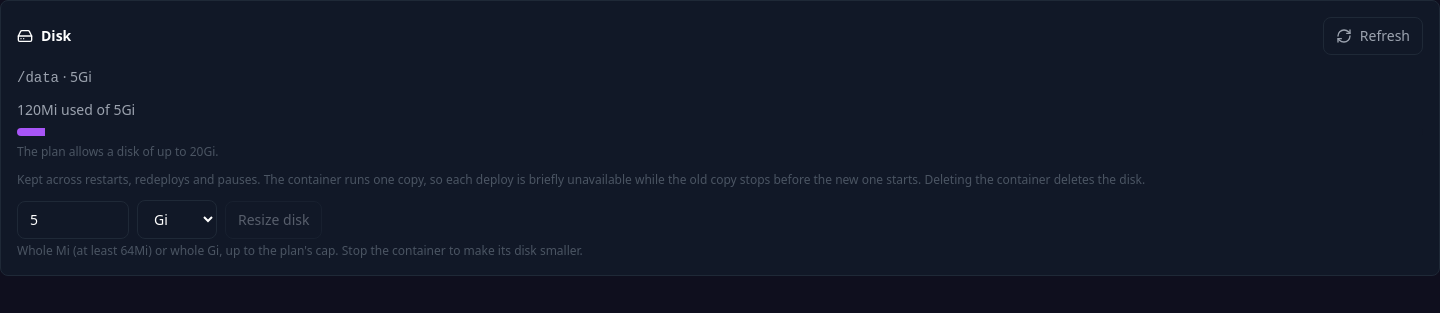
Scenario: AppDiskCard › a refused resize shows the server message verbatim
The width and height of the screenshot is (1440, 313).
Replace the text in the number field with test id "disk-resize-size" with "10": (73, 220) [17,200,129,238]
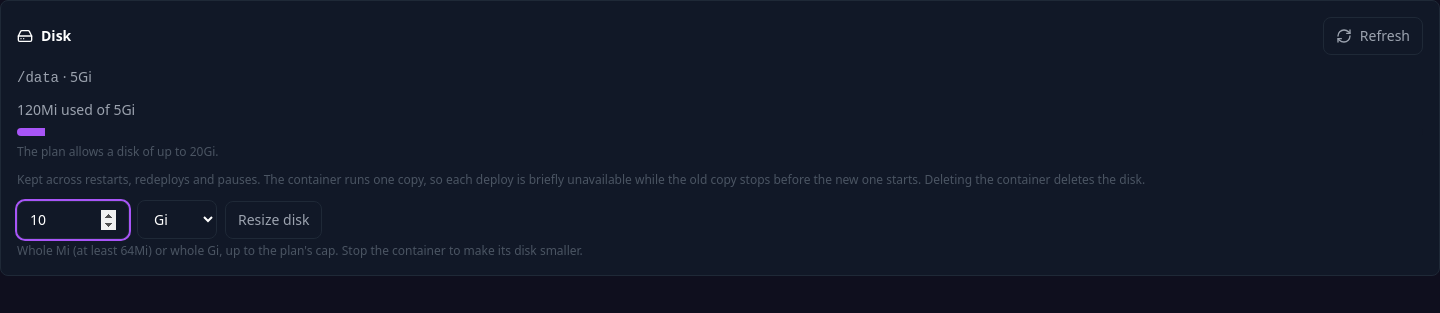
Select "Gi" in the dropdown with test id "disk-resize-unit": (177, 220) [137,200,217,239]
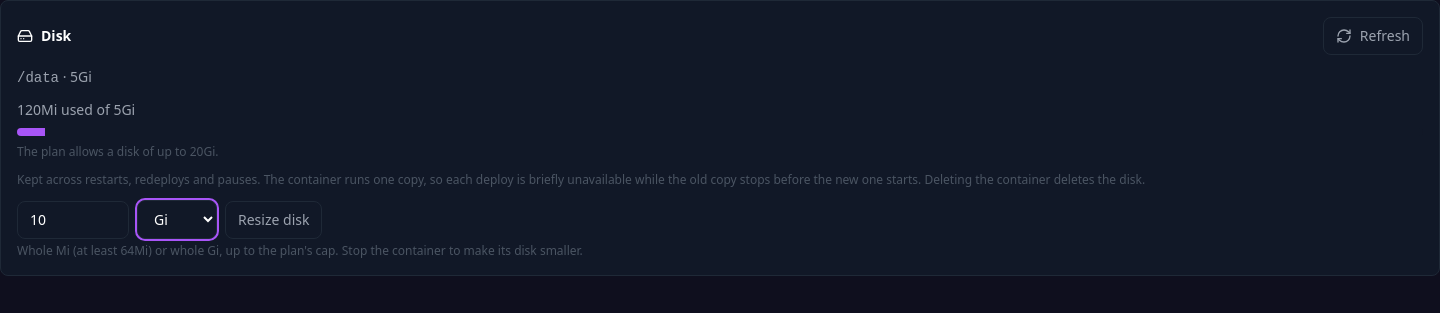
Click the button with test id "disk-resize": (274, 220) [225,200,322,238]
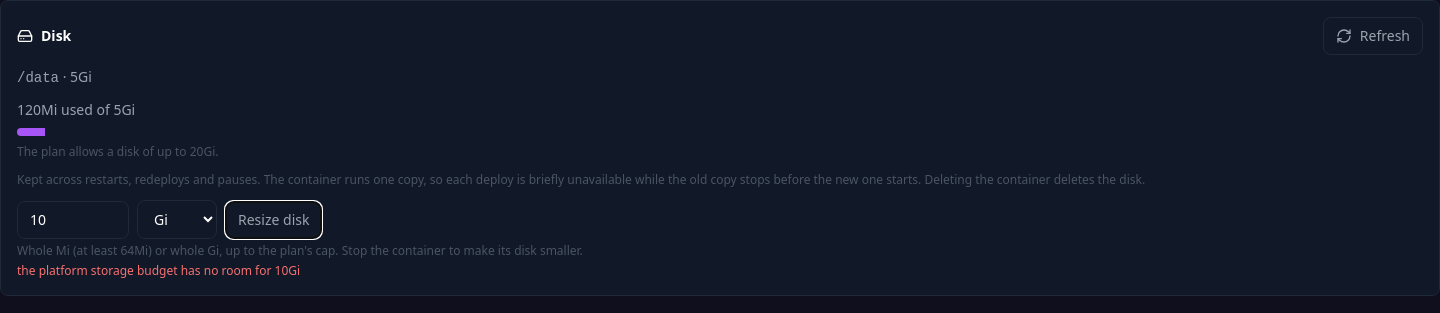
Now the message reads "the platform storage budget has no room for 10Gi", box [17,262,300,279]
